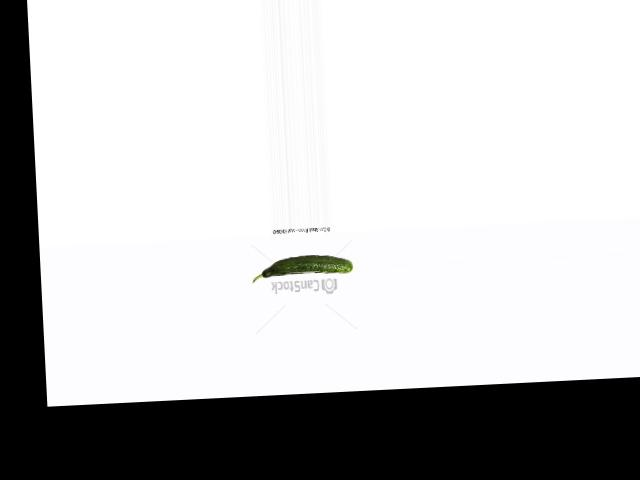cucumber: (250, 253, 352, 282)
